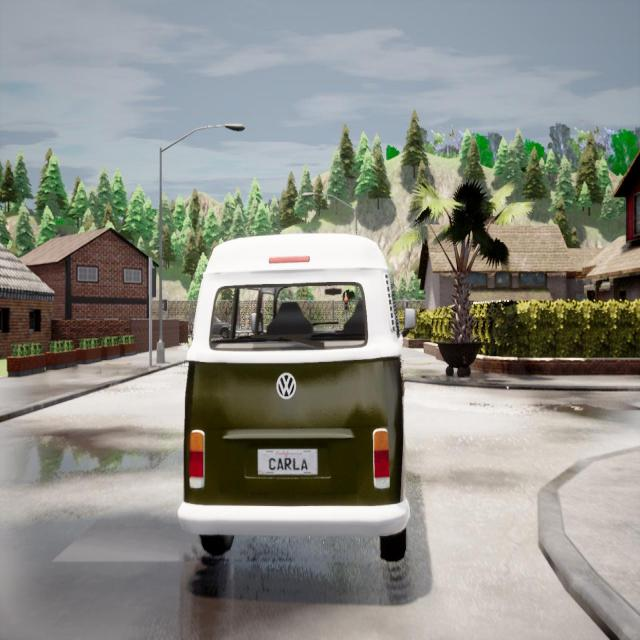Vehicle: (177, 235, 417, 561), (212, 316, 231, 338)
traffic_light: (152, 268, 157, 297), (344, 296, 348, 310), (164, 299, 167, 311)
